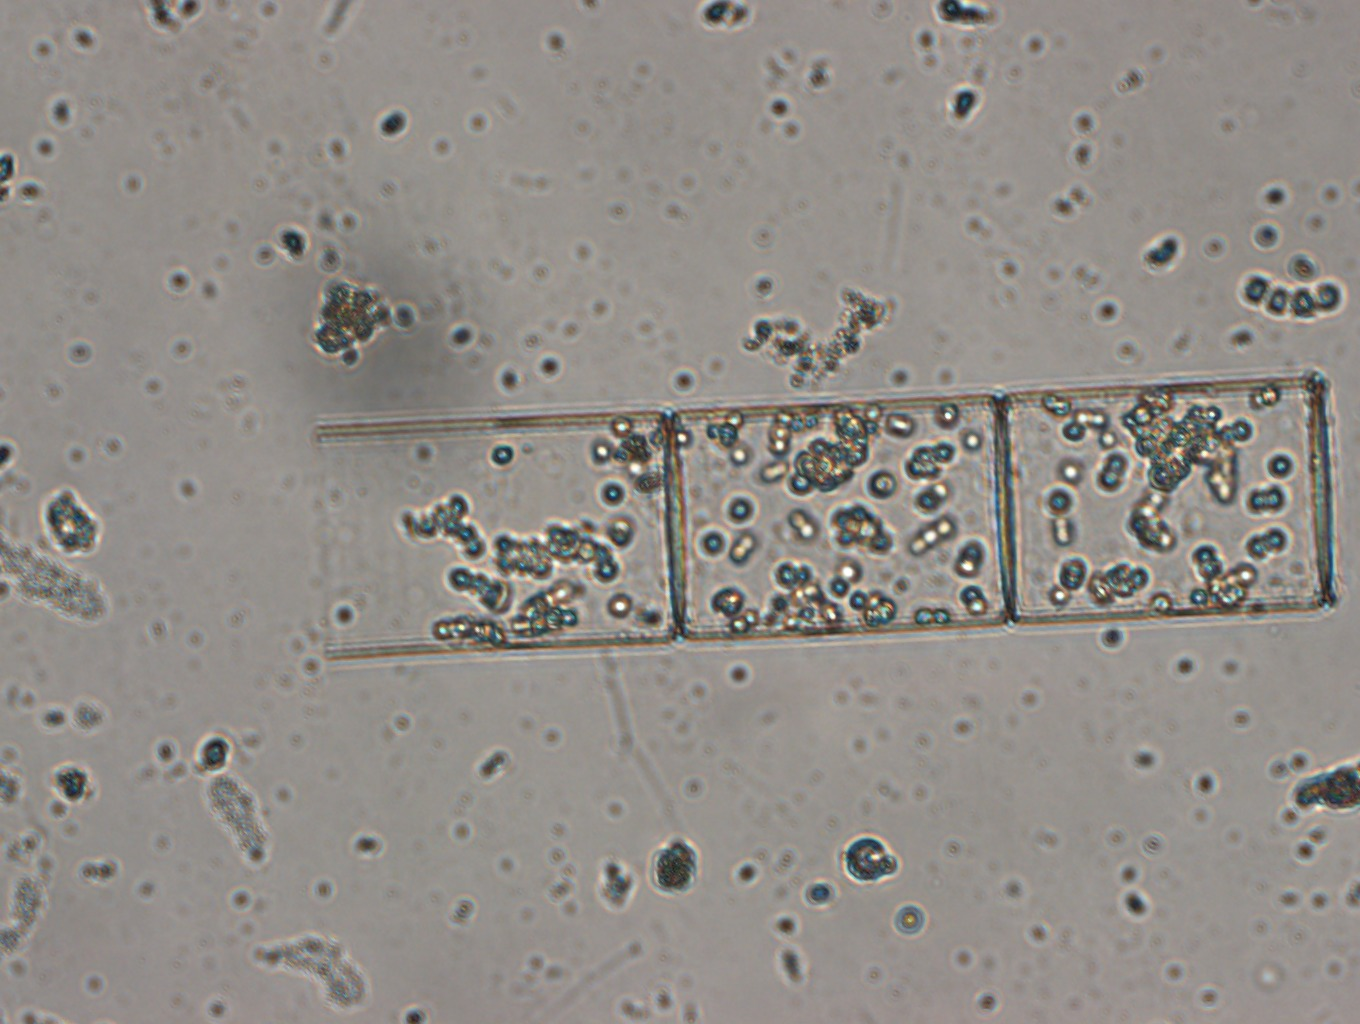guinardia flaccida: (317, 370, 1347, 657)
